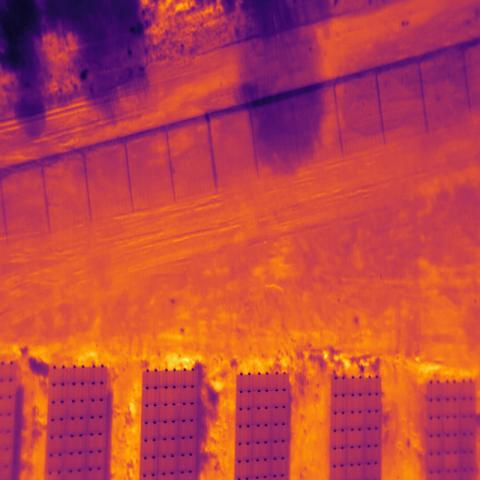fault: (444, 453, 459, 473)
